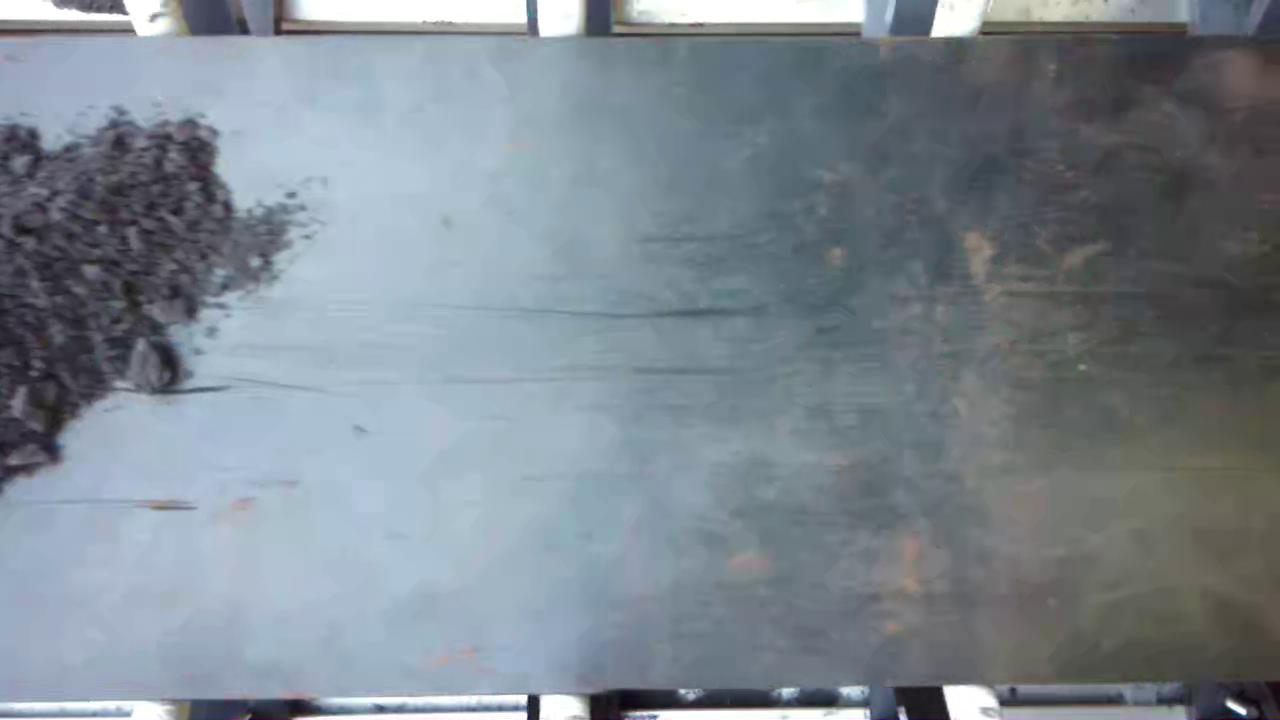conveyor: (3, 45, 1280, 680)
